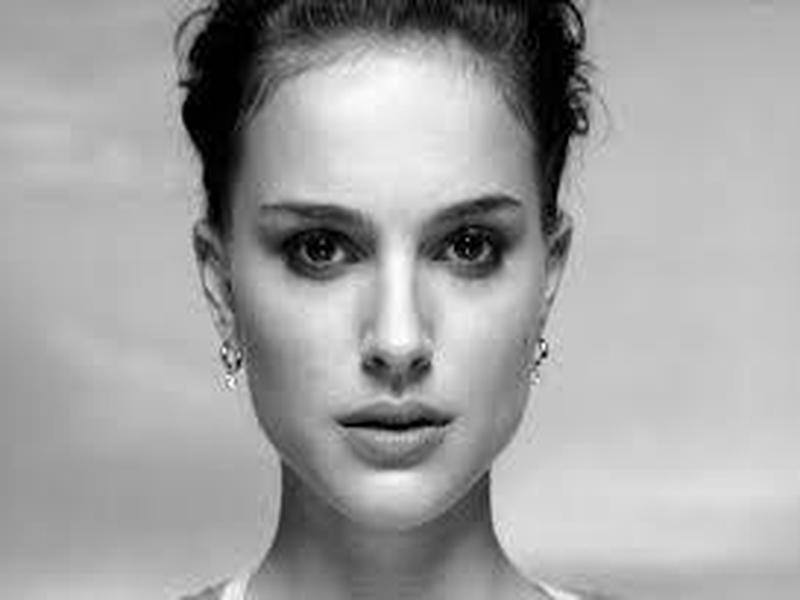without_mask: (227, 133, 546, 534)
